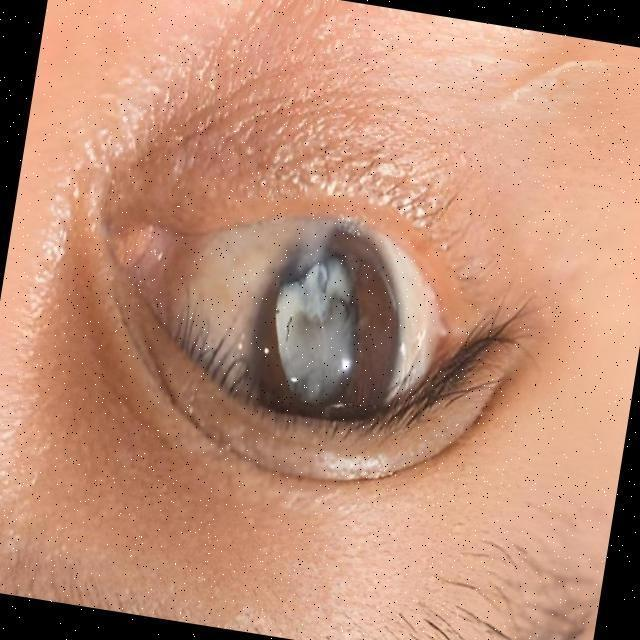Cataract: (220, 188, 432, 472)
